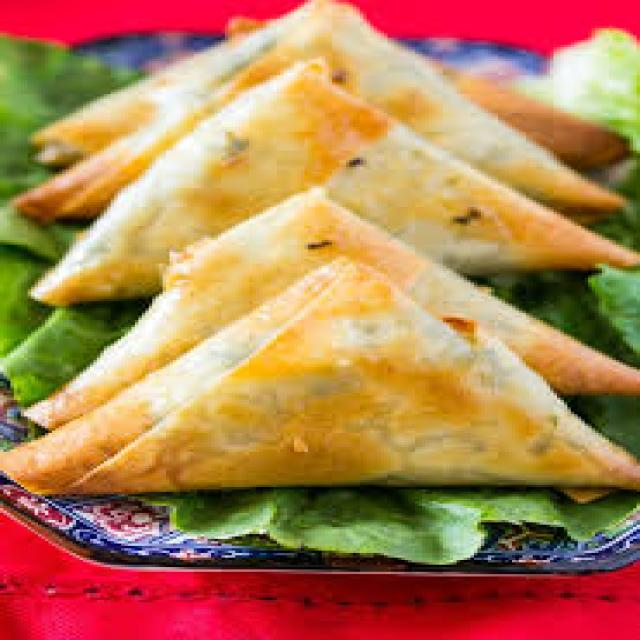SAMOSA: (4, 249, 637, 493), (27, 58, 637, 296), (23, 193, 637, 415)
